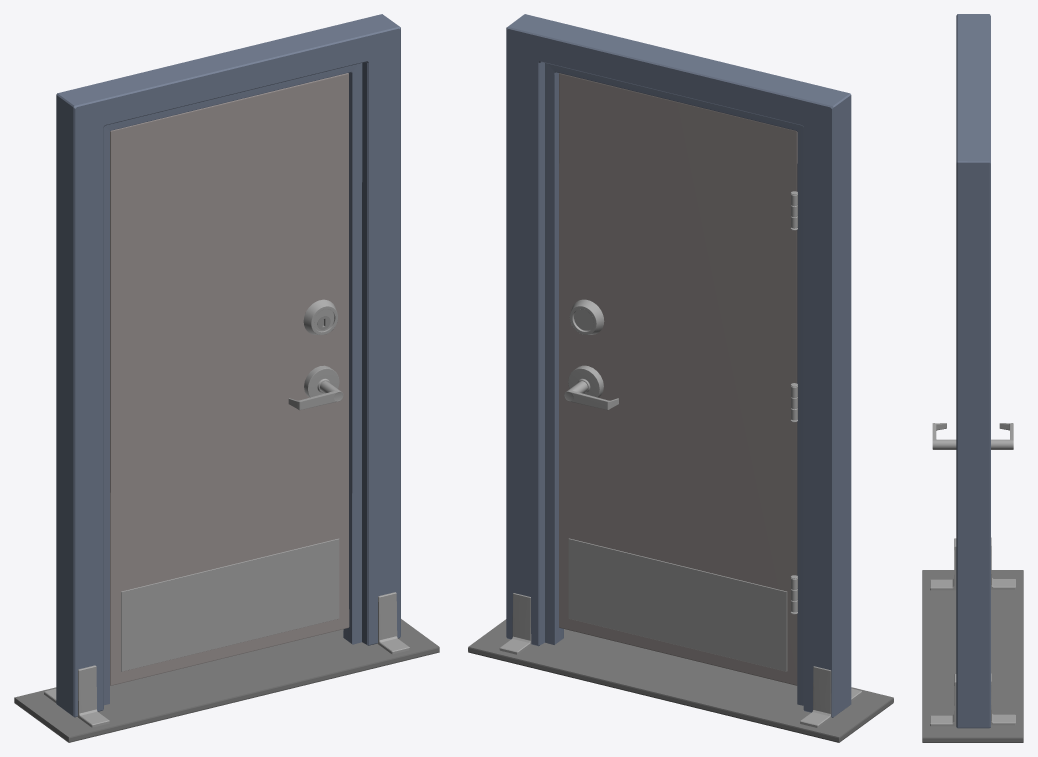
File: Door_Locked.fbx
3 renders of one model, left to right at view 1: azimuth 30°, elevation 25°; view 2: azimuth 150°, elevation 25°; view 3: azimuth 270°, elevation 25°, orthographic. The views are drawn at different scales.
Visible parts, largest first — view 1: DoorLocked, DoorLocedFrame, DoorHandle; view 2: DoorLocked, DoorLocedFrame, DoorHandle; view 3: DoorLocedFrame, DoorHandle.
Boxes of the visible parts, <box> form: DoorLocked: <box>110,73,349,685</box>; DoorLocedFrame: <box>14,14,439,742</box>; DoorHandle: <box>288,381,343,410</box>; DoorLocked: <box>559,73,797,685</box>; DoorLocedFrame: <box>468,14,893,742</box>; DoorHandle: <box>564,381,618,410</box>; DoorLocedFrame: <box>922,14,1023,742</box>; DoorHandle: <box>932,423,1013,449</box>.
Size of the model in its own units: 142 by 226 by 36.24.
